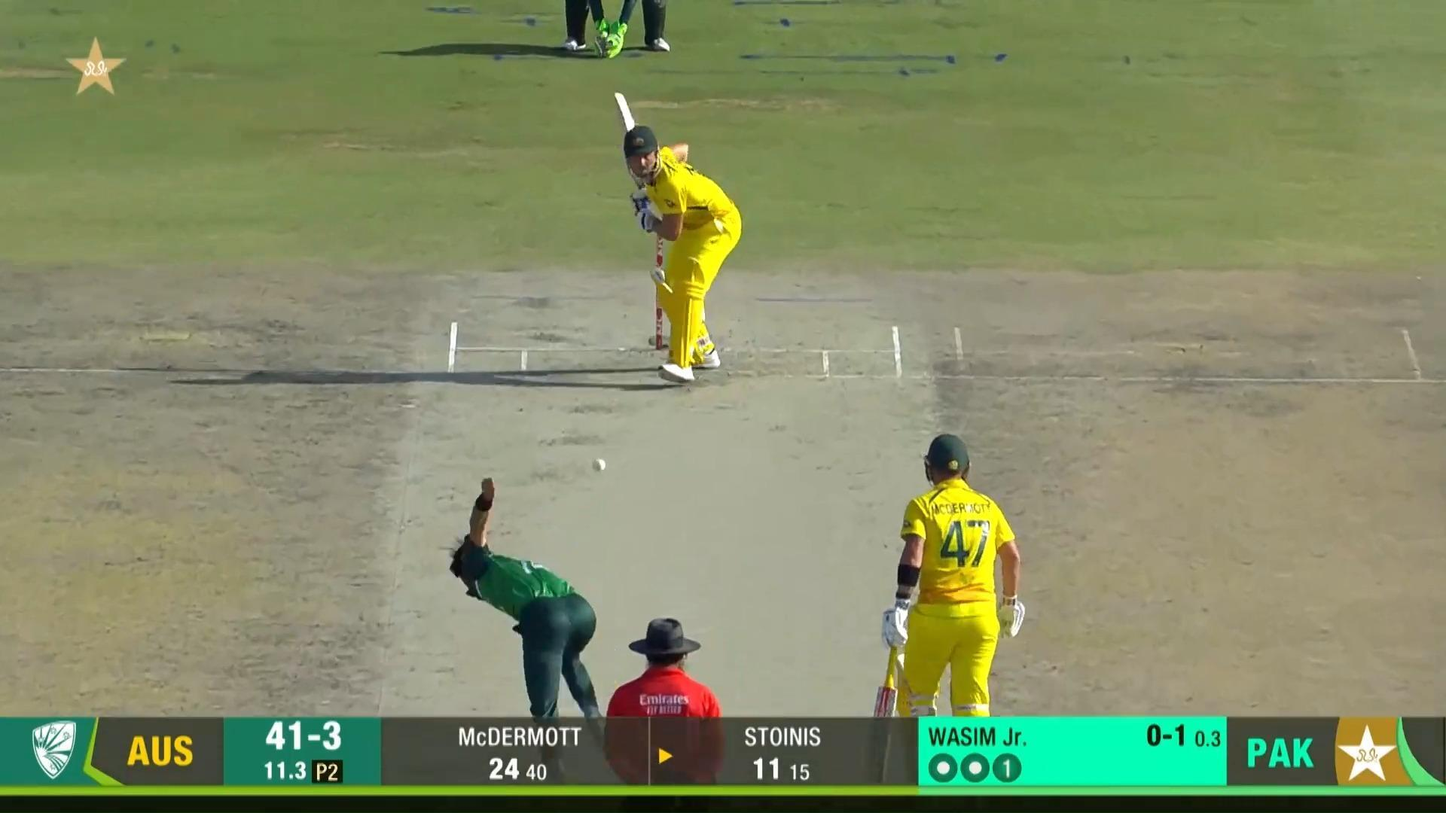BM 1: (613, 92, 742, 383)
BO: (445, 474, 607, 777)
